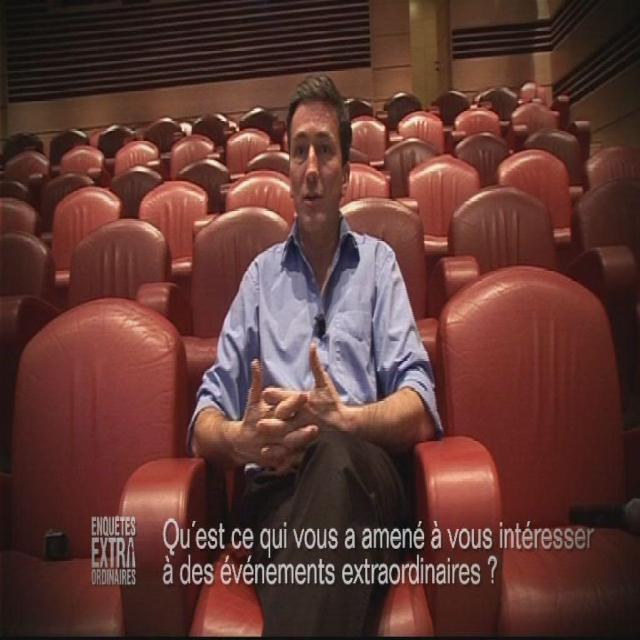Face: (288, 102, 350, 223)
